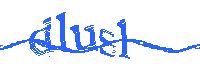d: (29, 17, 53, 55)
l: (55, 11, 71, 54), (117, 18, 130, 61)
s: (97, 26, 117, 58)
u: (70, 25, 98, 54)
